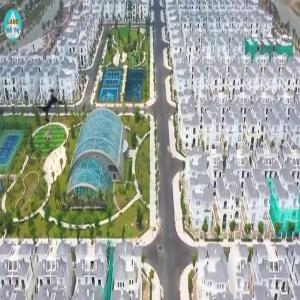drone: (14, 70, 91, 147)
